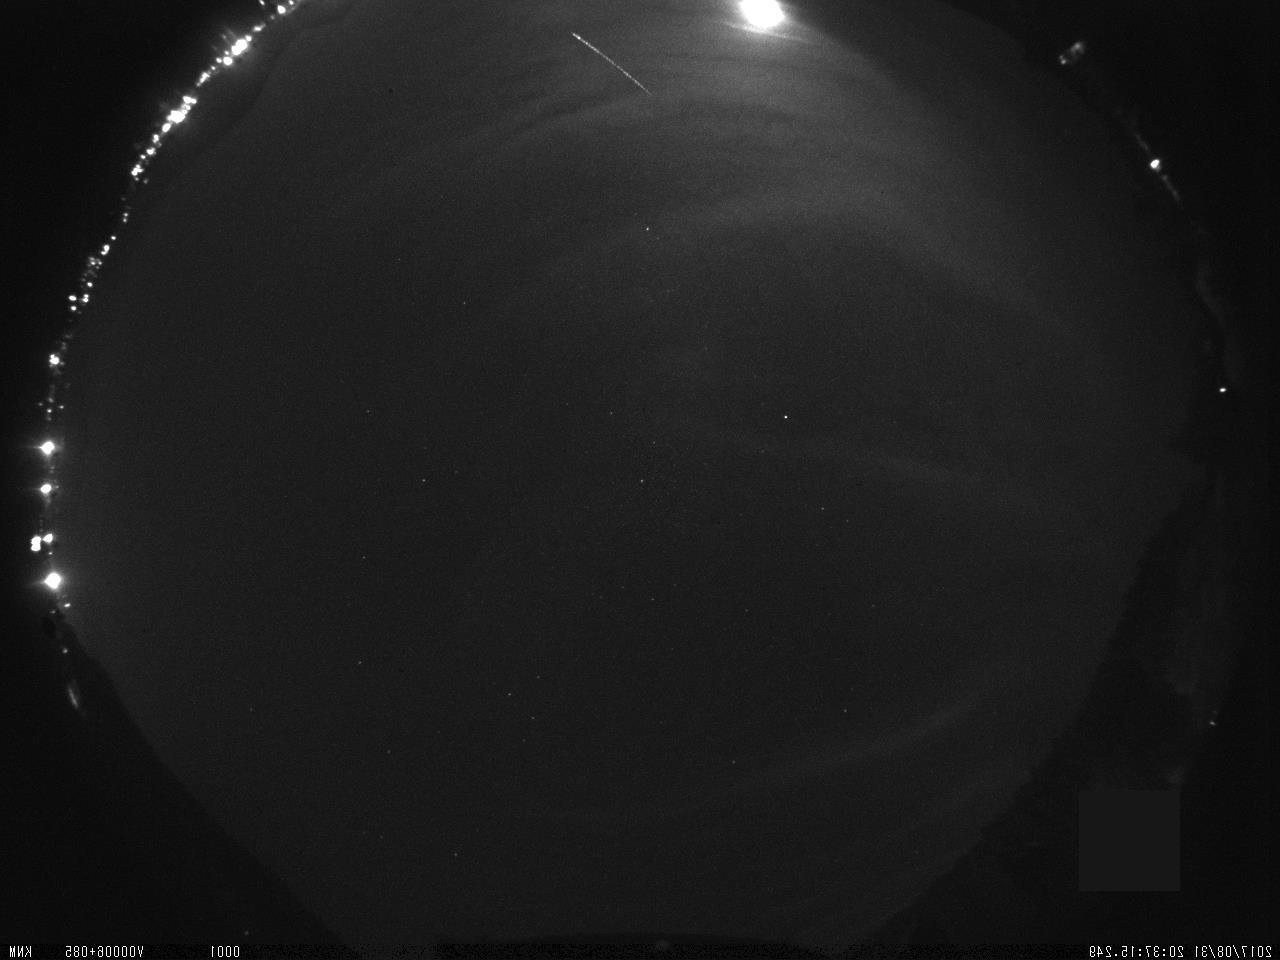meteor: (561, 27, 670, 104)
